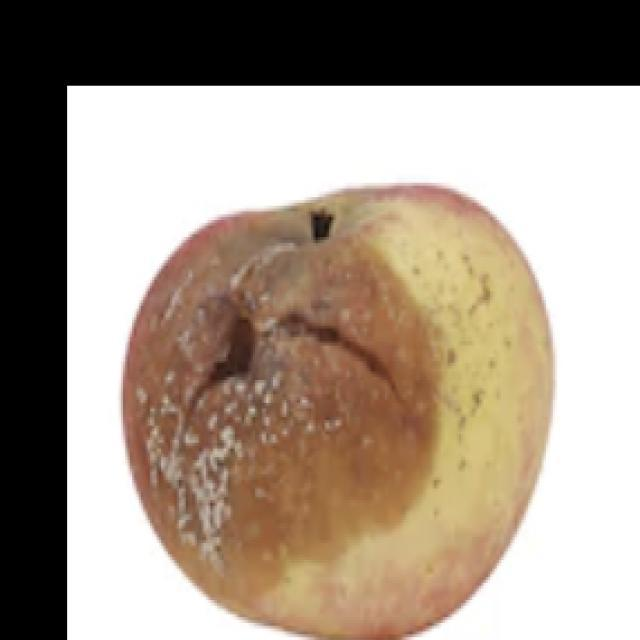Rotten: (112, 178, 556, 640)
